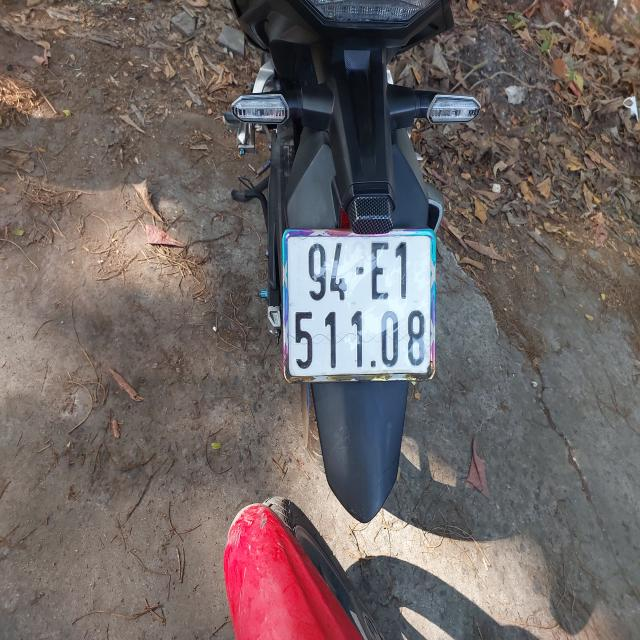1: (322, 305, 339, 370), (350, 308, 366, 369), (383, 311, 400, 366), (395, 242, 410, 298)
5: (292, 308, 316, 372)
8: (408, 307, 428, 365)
9: (306, 241, 326, 298), (329, 244, 348, 299)
E: (370, 241, 392, 299)
